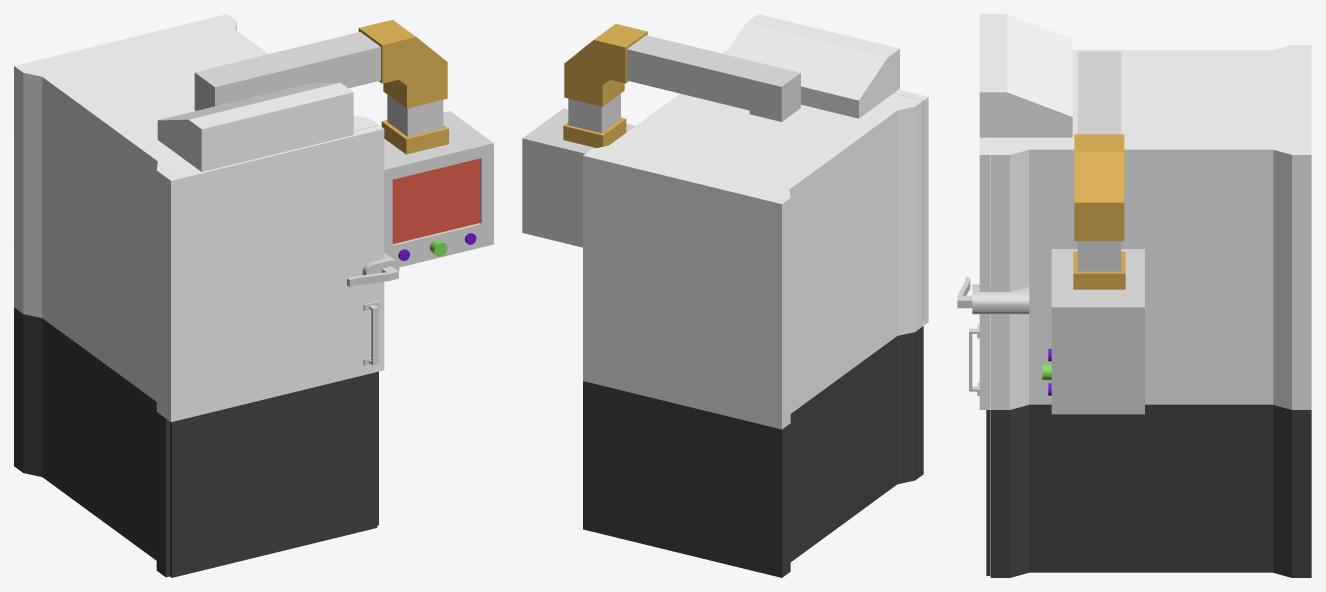
File: PH_XRay.fbx
The picture shows the model from 3 angles, left to right: view 1: azimuth 30°, elevation 25°; view 2: azimuth 150°, elevation 25°; view 3: azimuth 270°, elevation 25°; orthographic projection. The views are drawn at different scales.
Parts seen in each view (by area): view 1: Cube.011, Cube.014, Cube.013, Cube.012; view 2: Cube.011, Cube.014, Cube.012, Cube.013; view 3: Cube.011, Cube.013, Cube.014, Cube.012, Cube.018.
Boxes of the visible parts, <box> form: Cube.011: <box>14,14,384,577</box>; Cube.014: <box>194,19,448,154</box>; Cube.013: <box>384,111,493,267</box>; Cube.012: <box>157,82,353,171</box>; Cube.011: <box>583,50,928,577</box>; Cube.014: <box>563,24,800,147</box>; Cube.012: <box>725,14,899,118</box>; Cube.013: <box>522,108,635,247</box>; Cube.011: <box>979,45,1311,577</box>; Cube.013: <box>1051,249,1144,414</box>; Cube.014: <box>1073,51,1125,289</box>; Cube.012: <box>979,14,1072,137</box>; Cube.018: <box>972,284,1029,314</box>.
Size of the model in its own units: 187 by 222 by 152.
